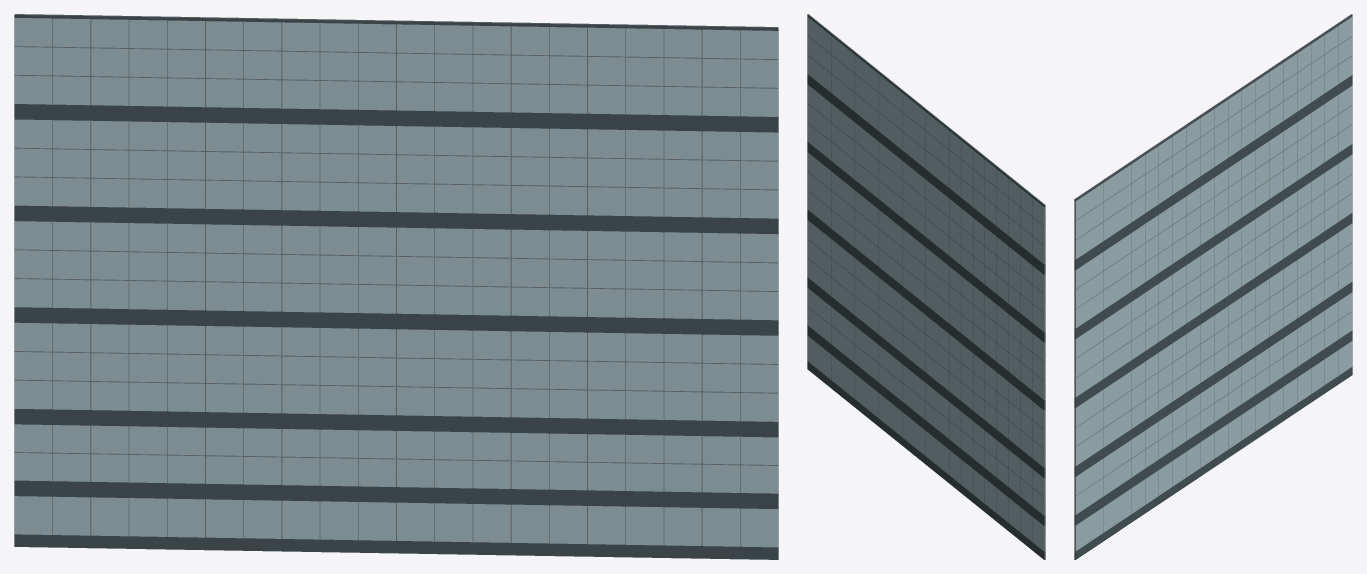
File: G7_Completion_Prior_G7_MiddleExteriorSkin_E06_r001.glb
The picture shows the model from 3 angles, left to right: view 1: azimuth 30°, elevation 25°; view 2: azimuth 150°, elevation 25°; view 3: azimuth 270°, elevation 25°; orthographic projection. The views are drawn at different scales.
Visible parts, largest first — view 1: G7_MiddleSkin_E06_glazing, G7_MiddleSkin_E06_spandrel, G7_MiddleSkin_E06_joint; view 2: G7_MiddleSkin_E06_glazing, G7_MiddleSkin_E06_spandrel, G7_MiddleSkin_E06_joint; view 3: G7_MiddleSkin_E06_glazing, G7_MiddleSkin_E06_spandrel, G7_MiddleSkin_E06_joint.
Boxes of the visible parts, x1,y1,x2,y2 form: G7_MiddleSkin_E06_glazing: (14, 18, 778, 547); G7_MiddleSkin_E06_spandrel: (14, 14, 778, 559); G7_MiddleSkin_E06_joint: (14, 18, 778, 546); G7_MiddleSkin_E06_glazing: (807, 17, 1043, 550); G7_MiddleSkin_E06_spandrel: (807, 14, 1045, 559); G7_MiddleSkin_E06_joint: (807, 16, 1045, 551); G7_MiddleSkin_E06_glazing: (1076, 17, 1352, 550); G7_MiddleSkin_E06_spandrel: (1074, 14, 1352, 559); G7_MiddleSkin_E06_joint: (1074, 17, 1352, 551).
Size of the model in its own units: 49.04 by 44.5 by 31.11.
3 materials, 2 textured.
